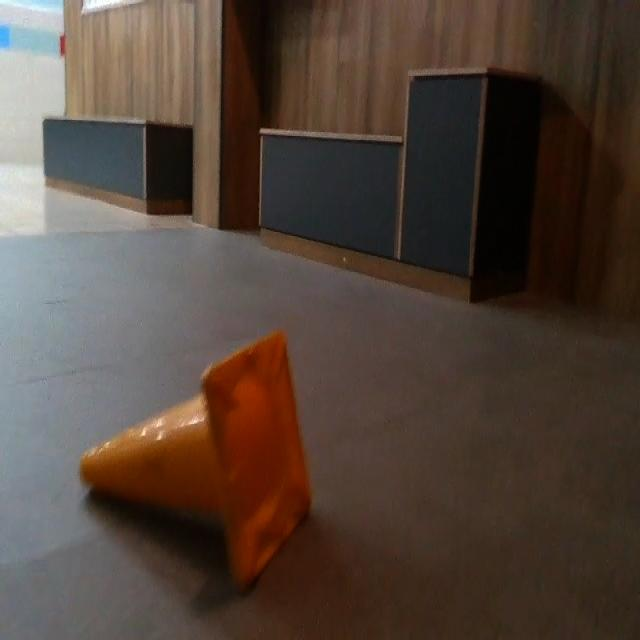cone: (81, 328, 313, 591)
